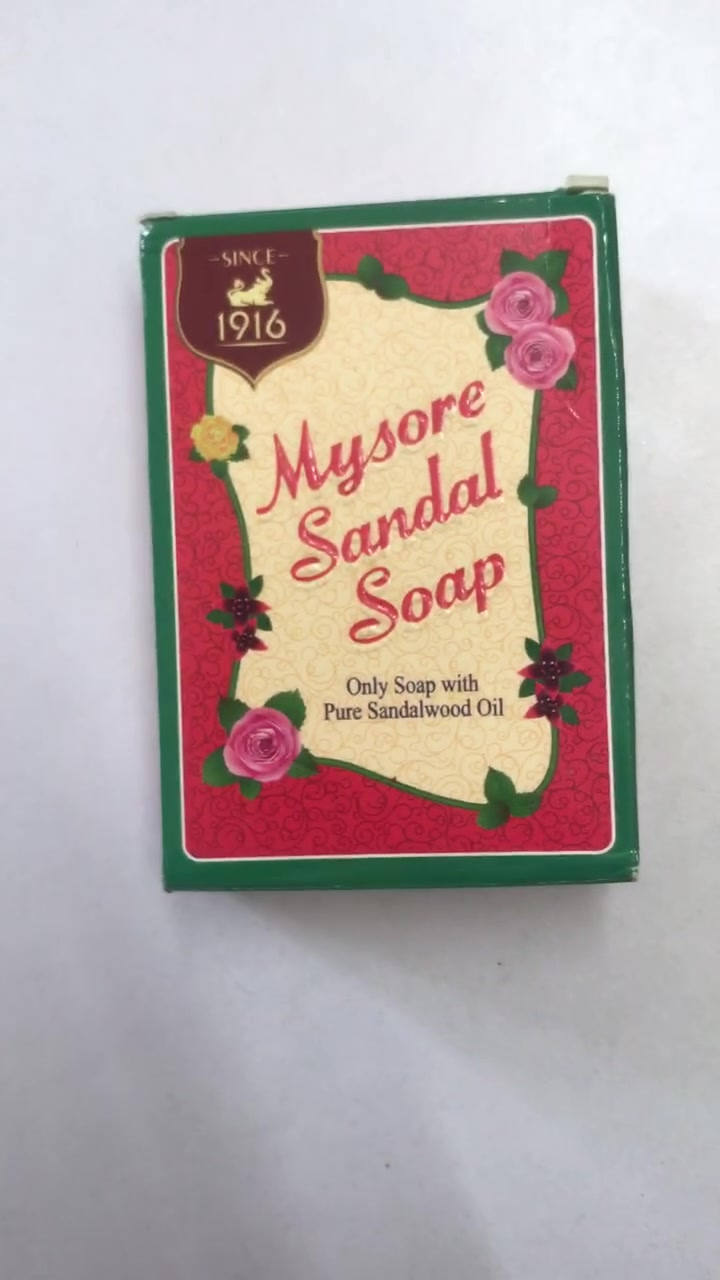mysore sandal soap: (146, 225, 628, 884)
